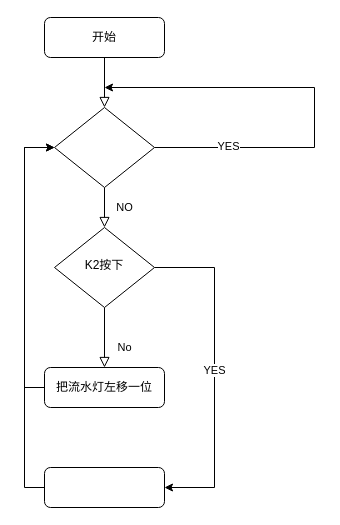
Image size: 340x525. Some labels were removed from this diagram. Each missing label, with the centre of its shape:
K1按下: the point at 104,147
把流水灯右移一位: the point at 104,487
